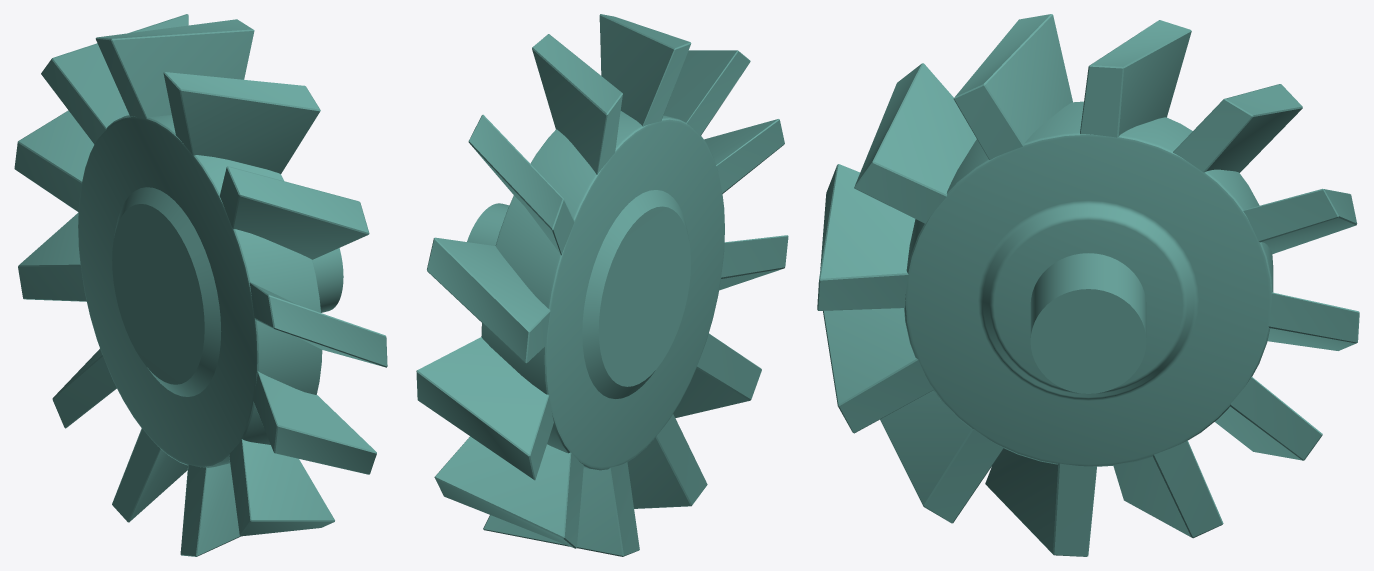
File: fengye02.FBX
3 renders of one model, left to right at view 1: azimuth 30°, elevation 25°; view 2: azimuth 150°, elevation 25°; view 3: azimuth 270°, elevation 25°, orthographic. The views are drawn at different scales.
Visible parts, largest first — view 1: fj-16; view 2: fj-16; view 3: fj-16.
Part boxes in pixels (bbox=[...]): fj-16: bbox=[14, 14, 387, 556]; fj-16: bbox=[416, 14, 788, 556]; fj-16: bbox=[817, 14, 1359, 556].
Bounding box in the file's own units: 94.07 × 255 × 255.
1 material, 1 textured.
